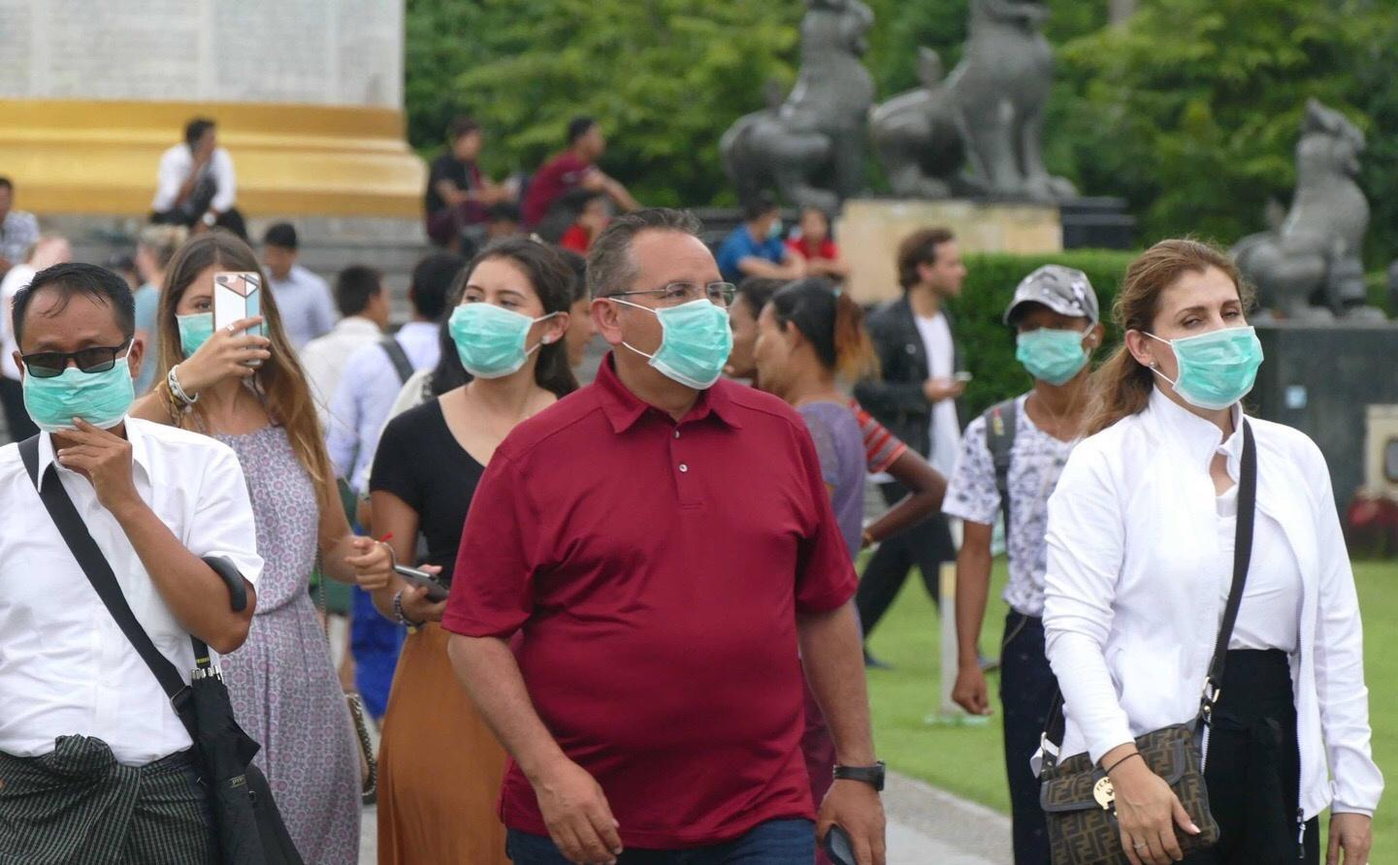NONE: (751, 323, 818, 392), (928, 252, 968, 300)
OK: (1134, 287, 1263, 416), (17, 325, 144, 451), (610, 262, 732, 389), (442, 274, 559, 391), (163, 280, 270, 387), (1011, 308, 1095, 393)
